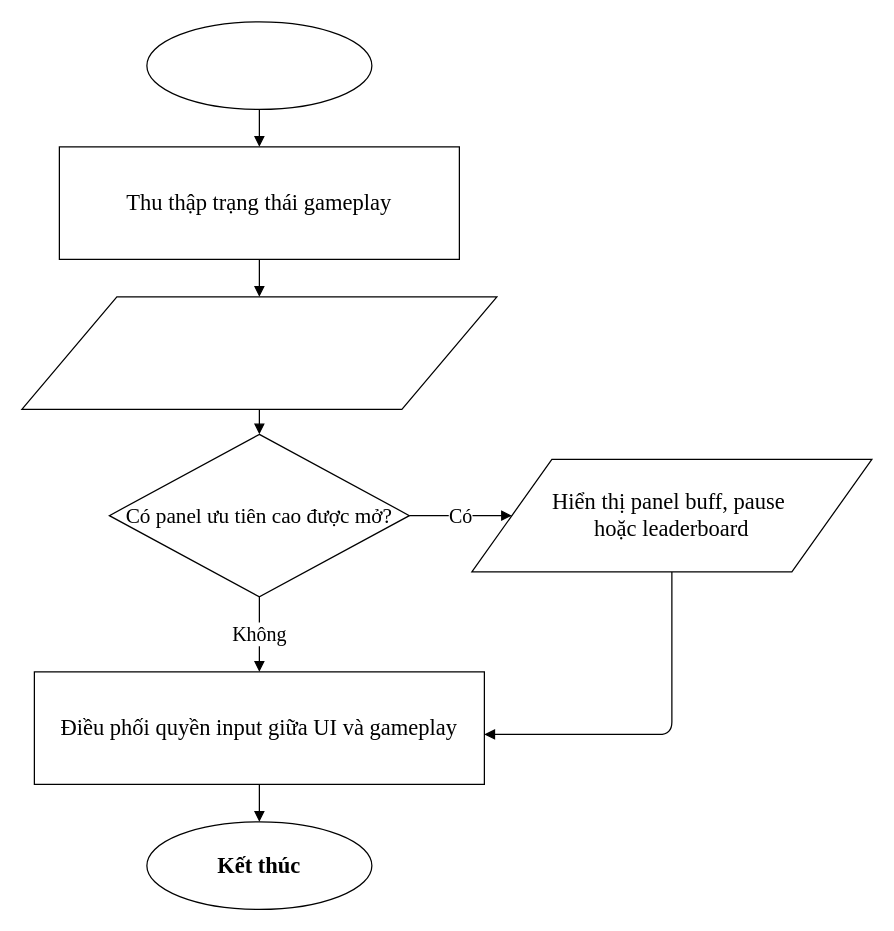
This 894x931 diagram has some shape labels left out. The centre of each missing label's shape, as x and y in pixels:
"Bắt đầu" goes at [259,65].
"Hiển thị HUD: HP, EXP, level, wave" goes at [259,352].
